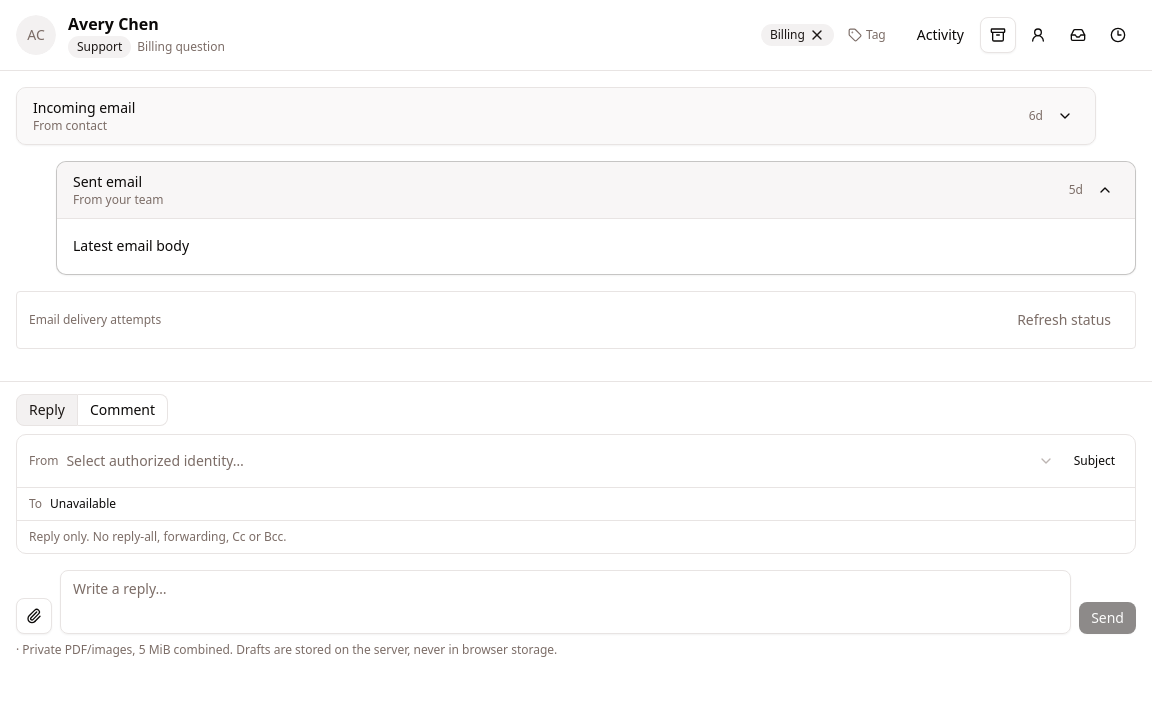
Test: inbox UI contracts › collapses earlier emails while keeping the newest email open
Check: the text "Earlier email body" is not shown
Check: the text "Latest email body" is shown, box [73,236,189,255]
Click the button named "Show email" at (1065, 116), box [1051,102,1079,130]
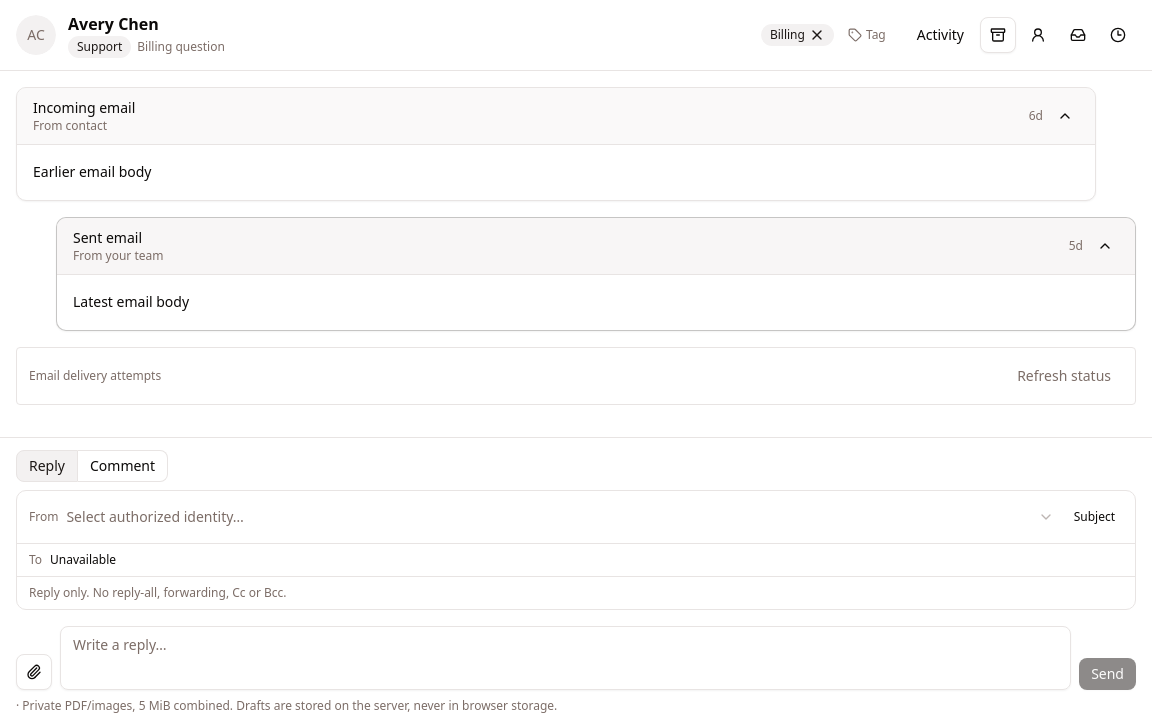
Check: the number of buttons named "Hide email" is 2, box [1051,102,1079,130]; [1091,232,1119,260]
Check: the text "Earlier email body" is shown, box [33,162,152,181]
